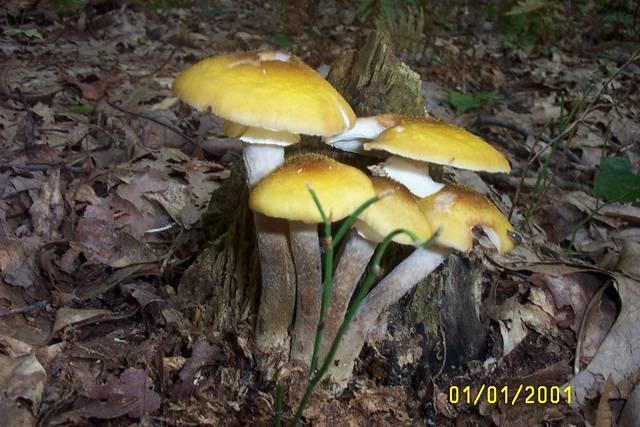edible_mushroom: (168, 48, 519, 390)
